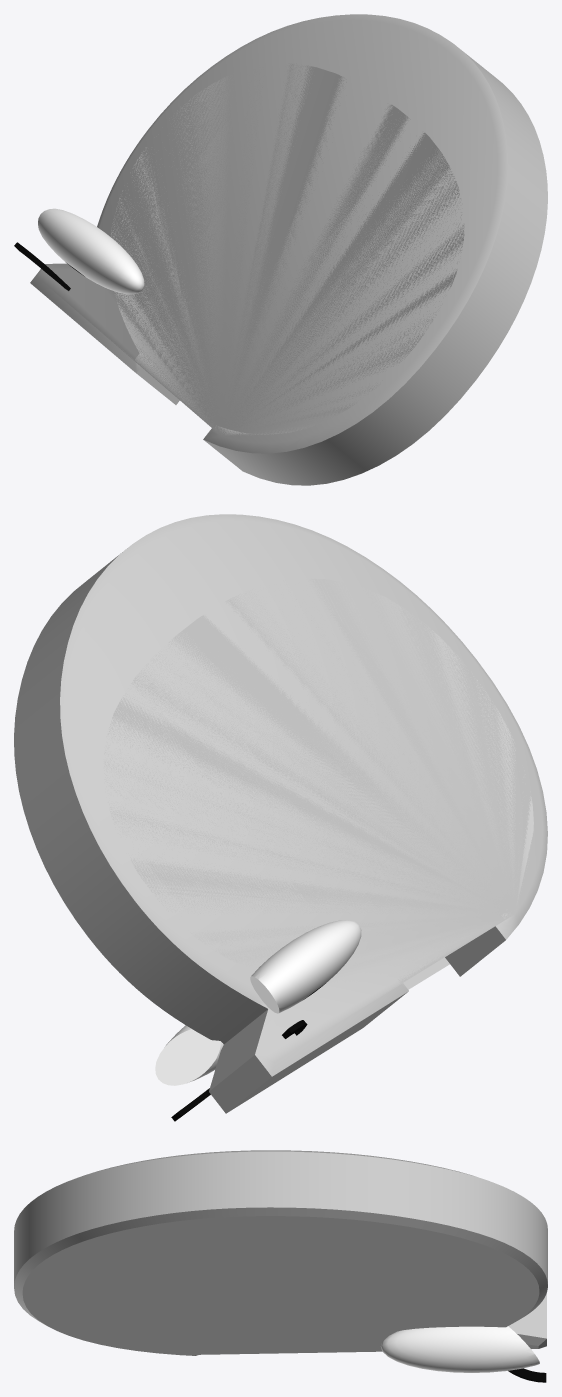
The model's file is c_is_for_cookie_idle_breathing_60fps.FBX.
3 renders of one model, top to bottom at view 1: azimuth 30°, elevation 25°; view 2: azimuth 150°, elevation 25°; view 3: azimuth 270°, elevation 25°, orthographic. The views are drawn at different scales.
Visible parts, largest first — view 1: C, Box003; view 2: C, Box003; view 3: C, Box003.
Boxes of the visible parts, x1,y1,x2,y2 form: C: (14,14,547,485); Box003: (38,208,144,294); C: (14,514,547,1121); Box003: (155,920,361,1085); C: (14,1150,547,1382); Box003: (380,1326,539,1372).
Size of the model in its own units: 14.23 by 14.27 by 21.94.
